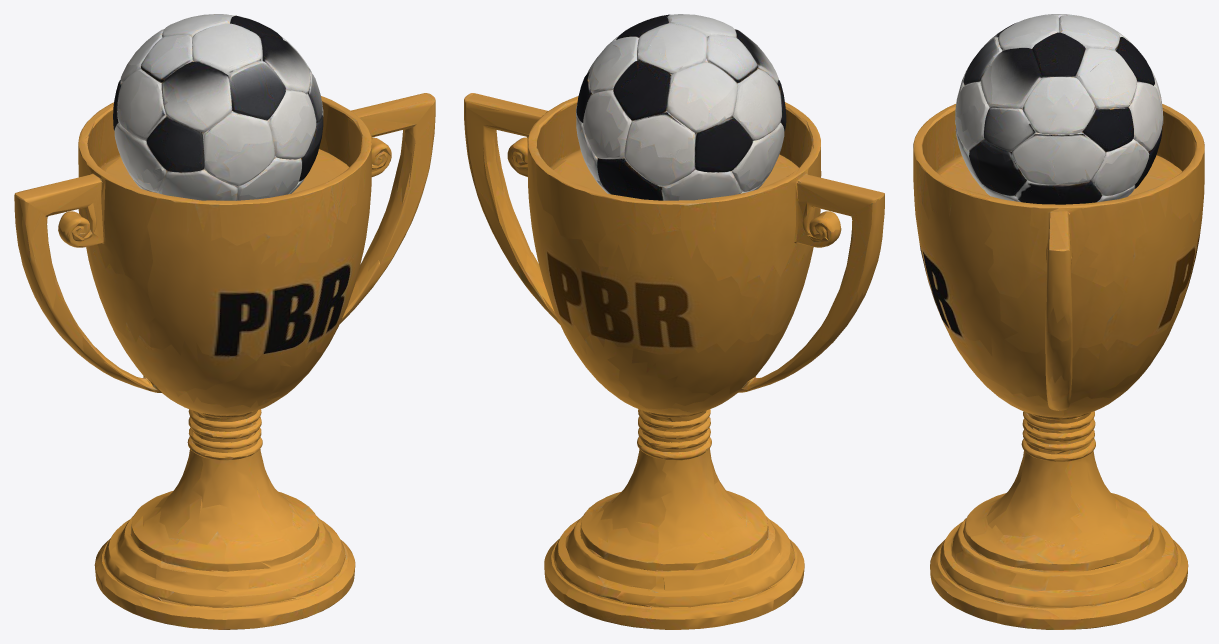
The model's file is trophyCup.0185047a.glb.
The picture shows the model from 3 angles, left to right: view 1: azimuth 30°, elevation 25°; view 2: azimuth 150°, elevation 25°; view 3: azimuth 270°, elevation 25°; orthographic projection.
Parts seen in each view (by area): view 1: output_unwrapped; view 2: output_unwrapped; view 3: output_unwrapped.
Boxes of the visible parts, x1,y1,x2,y2 form: output_unwrapped: [14, 14, 435, 629]; output_unwrapped: [464, 14, 884, 629]; output_unwrapped: [913, 14, 1204, 629].
Bounding box in the file's own units: 1.49 × 1.9 × 0.9155.
Materials: 1 (1 with a texture image).
